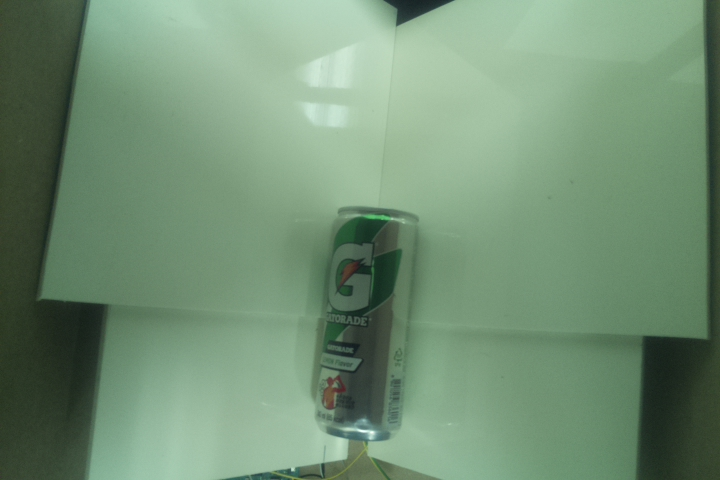can: (314, 204, 421, 442)
